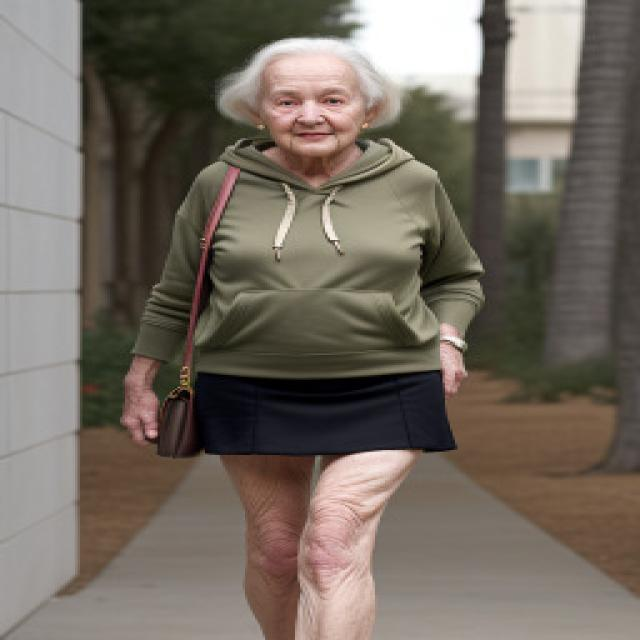Ai human 2: (109, 21, 521, 640)
